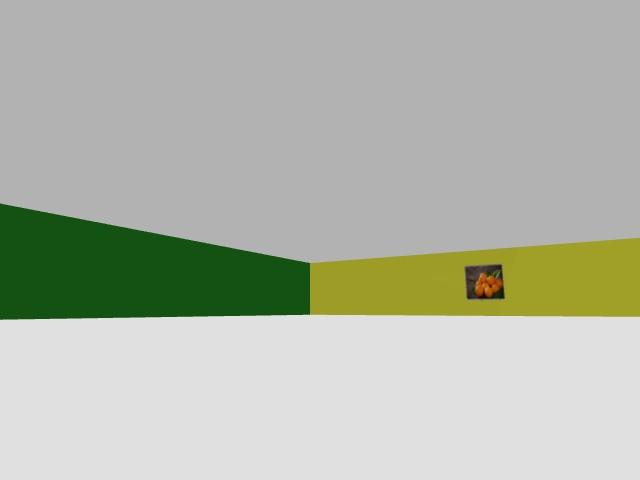orange: (486, 275, 495, 286), (484, 286, 493, 297), (491, 283, 500, 292), (475, 286, 483, 296), (495, 278, 503, 288), (478, 273, 486, 282), (495, 282, 502, 290), (494, 284, 502, 291), (474, 285, 483, 291), (482, 282, 488, 289), (475, 281, 481, 286)
